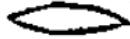Mouth: (5, 0, 130, 37)
